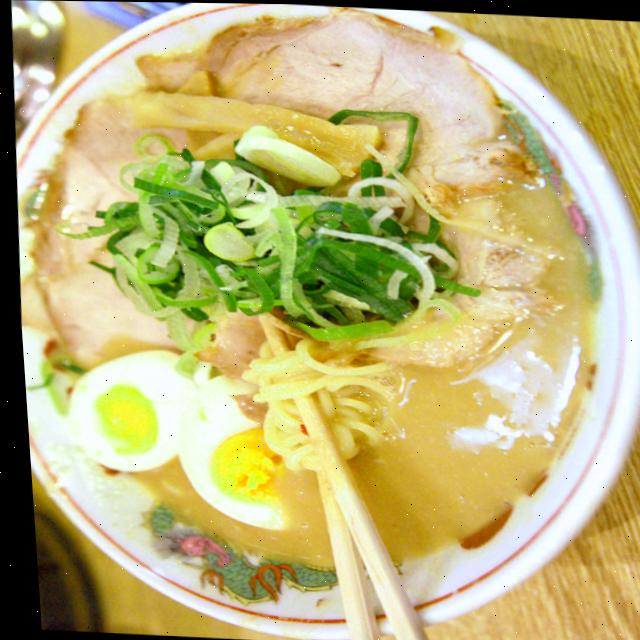面条主食: (0, 0, 619, 597)
